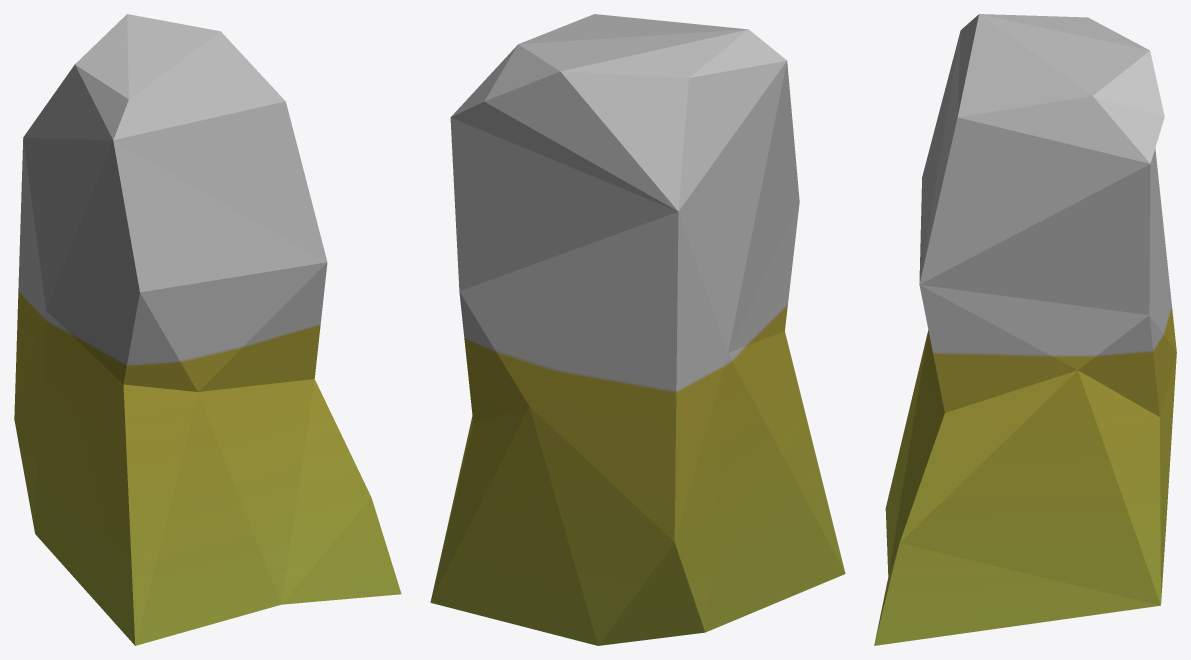
Rendered from BigRock_01.fbx.
3 views of the same model, side by side, from view 1: azimuth 30°, elevation 25°; view 2: azimuth 150°, elevation 25°; view 3: azimuth 270°, elevation 25° (orthographic). The views are drawn at different scales.
Visible parts, largest first — view 1: BigRock_01; view 2: BigRock_01; view 3: BigRock_01.
Part boxes in pixels (x1,y1,x2,y2): BigRock_01: [14, 14, 401, 645]; BigRock_01: [430, 14, 845, 645]; BigRock_01: [874, 14, 1176, 645].
Size of the model in its own units: 3.93 by 7.43 by 3.87.
